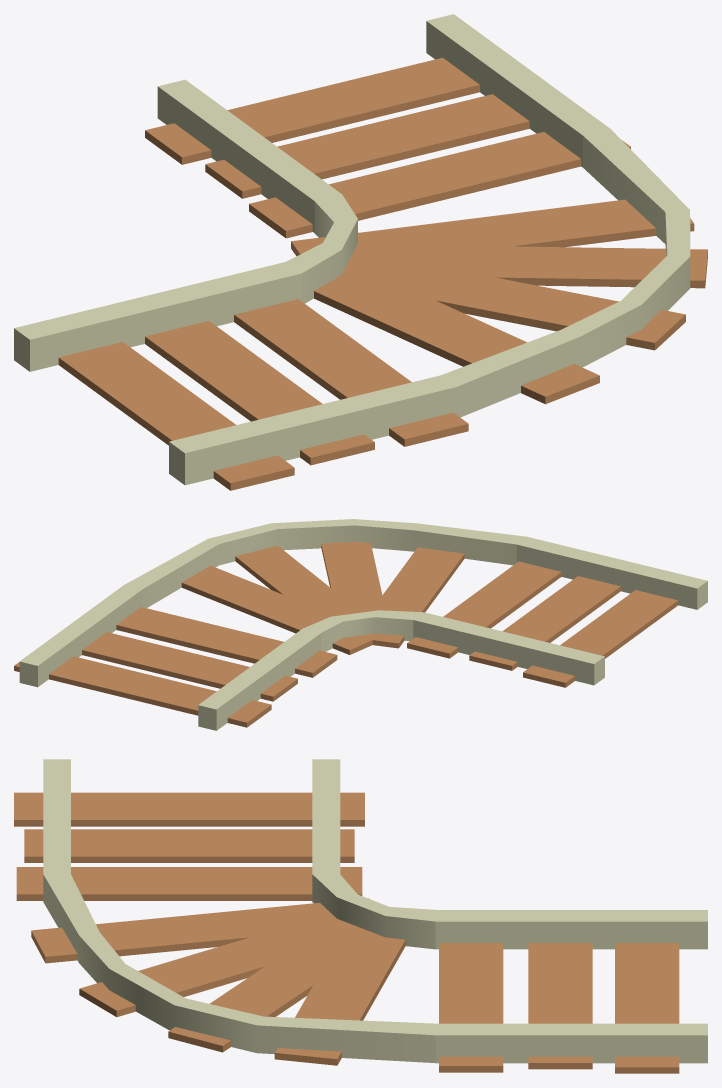
File: Rail_bend.fbx
3 renders of one model, top to bottom at view 1: azimuth 30°, elevation 25°; view 2: azimuth 150°, elevation 25°; view 3: azimuth 270°, elevation 25°, orthographic. The views are drawn at different scales.
Visible parts, largest first — view 1: SM_Track9; view 2: SM_Track9; view 3: SM_Track9.
Boxes of the visible parts, x1=… form: SM_Track9: x1=14, y1=14, x2=707, y2=490; SM_Track9: x1=14, y1=519, x2=707, y2=730; SM_Track9: x1=14, y1=759, x2=707, y2=1073.
Bounding box in the file's own units: 2.78 × 0.1263 × 2.84.
